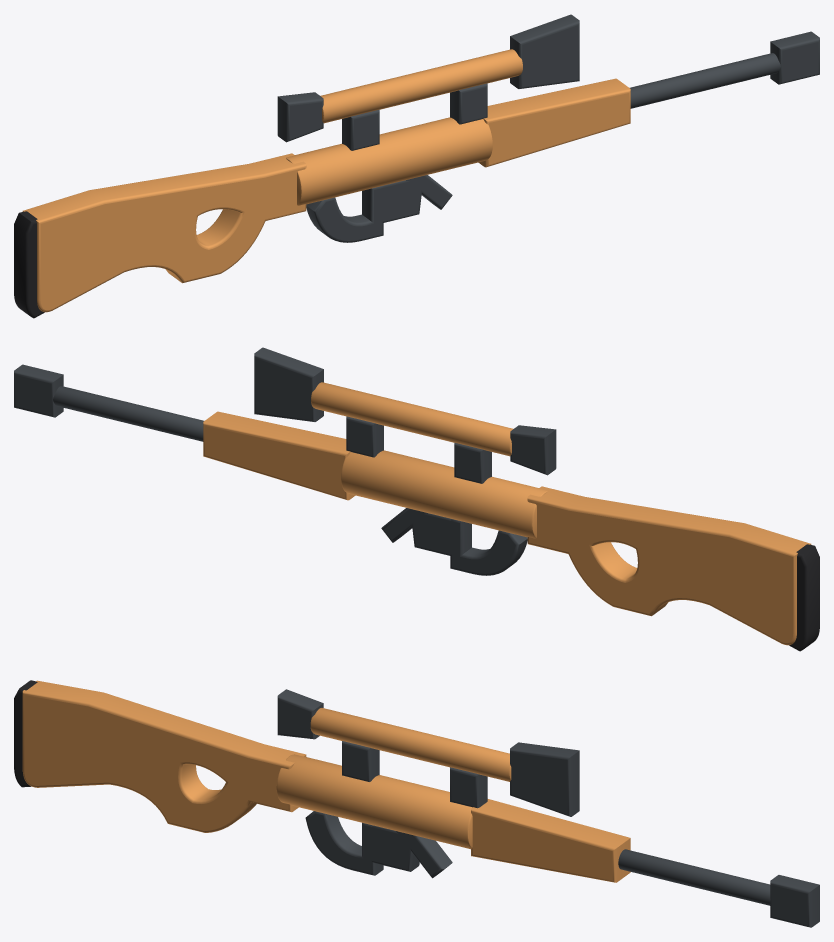
Rendered from awp.glb.
3 renders of one model, top to bottom at view 1: azimuth 30°, elevation 25°; view 2: azimuth 150°, elevation 25°; view 3: azimuth 330°, elevation 25°, orthographic.
Visible parts, largest first — view 1: paint_0, paint_2, paint_11, paint_3, metal_4, metal_12, metal_10, poly_1, metal_13, metal_5, metal_9, metal_6 (+2 smaller); view 2: paint_0, paint_2, paint_11, paint_3, metal_4, metal_12, metal_10, poly_1, metal_13, metal_5, metal_9, metal_6 (+2 smaller); view 3: paint_0, paint_2, paint_11, paint_3, metal_4, metal_12, metal_10, metal_13, metal_5, metal_9, metal_7, metal_6 (+2 smaller).
Part boxes in pixels (left/top/right/bottom): paint_0: left=22, top=153, right=306, bottom=312; paint_2: left=286, top=117, right=492, bottom=205; paint_11: left=478, top=78, right=630, bottom=167; paint_3: left=320, top=49, right=522, bottom=123; metal_4: left=510, top=14, right=579, bottom=88; metal_12: left=630, top=53, right=780, bottom=108; metal_10: left=306, top=186, right=383, bottom=242; poly_1: left=14, top=211, right=44, bottom=318; metal_13: left=770, top=31, right=819, bottom=84; metal_5: left=277, top=92, right=323, bottom=142; metal_9: left=376, top=180, right=421, bottom=222; metal_6: left=342, top=109, right=379, bottom=150; paint_0: left=527, top=486, right=811, bottom=645; paint_2: left=341, top=450, right=547, bottom=538; paint_11: left=203, top=411, right=355, bottom=500; paint_3: left=311, top=382, right=513, bottom=456; metal_4: left=254, top=347, right=323, bottom=421; metal_12: left=53, top=386, right=203, bottom=441; metal_10: left=450, top=519, right=527, bottom=575; poly_1: left=789, top=544, right=819, bottom=651; metal_13: left=14, top=364, right=63, bottom=417; metal_5: left=510, top=425, right=556, bottom=475; metal_9: left=412, top=513, right=457, bottom=555; metal_6: left=454, top=442, right=491, bottom=483; paint_0: left=22, top=680, right=306, bottom=832; paint_2: left=276, top=754, right=472, bottom=849; paint_11: left=471, top=799, right=630, bottom=882; paint_3: left=310, top=708, right=511, bottom=781; metal_4: left=510, top=742, right=579, bottom=816; metal_12: left=618, top=849, right=770, bottom=905; metal_10: left=305, top=811, right=383, bottom=875; metal_13: left=770, top=875, right=819, bottom=927; metal_5: left=277, top=689, right=323, bottom=739; metal_9: left=366, top=823, right=419, bottom=871; metal_7: left=450, top=767, right=487, bottom=808; metal_6: left=342, top=741, right=379, bottom=781.
Size of the model in its own units: 398 by 79.79 by 22.
